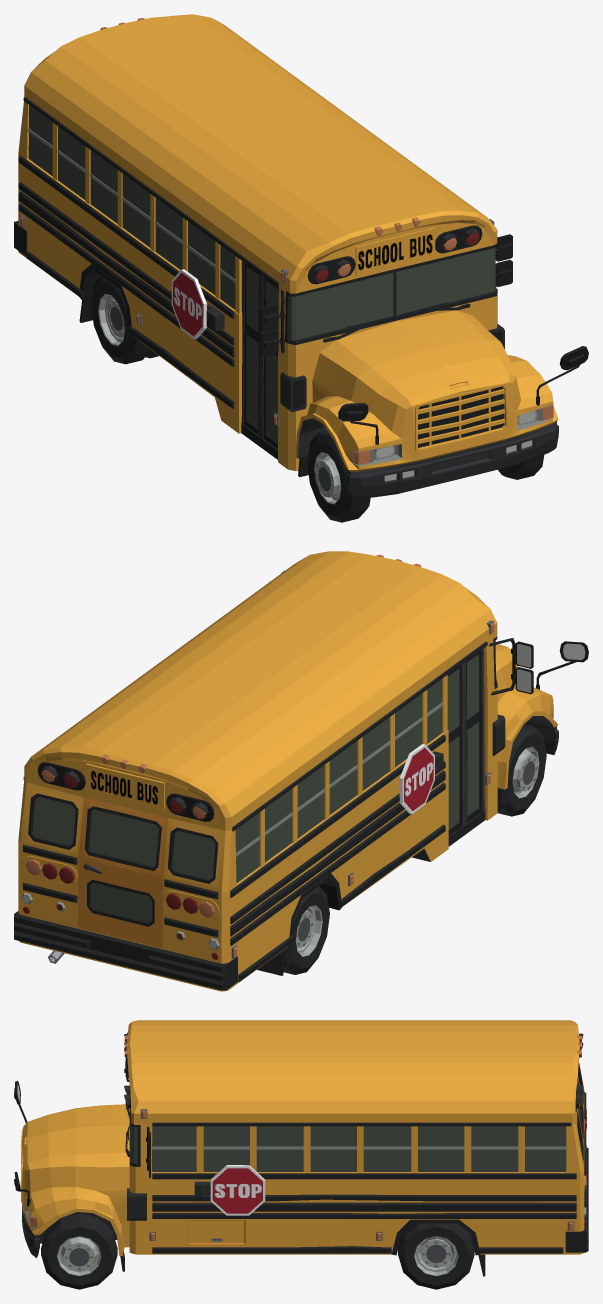
Rendered from SM_Veh_SchoolBus_01.fbx.
3 views of the same model, one above another, from view 1: azimuth 30°, elevation 25°; view 2: azimuth 150°, elevation 25°; view 3: azimuth 270°, elevation 25° (orthographic). The views are drawn at different scales.
Parts seen in each view (by area): view 1: SM_Veh_SchoolBus_01, SM_Veh_SchoolBus_Glass, SM_Veh_SchoolBus_Wheel_fr, SM_Veh_SchoolBus_Wheel_rr, SM_Veh_SchoolBus_Sign_r, SM_Veh_SchoolBus_Door_01_Glass, SM_Veh_SchoolBus_Door_01, SM_Veh_SchoolBus_Door_02_Glass, SM_Veh_SchoolBus_Door_02; view 2: SM_Veh_SchoolBus_01, SM_Veh_SchoolBus_Glass, SM_Veh_SchoolBus_Wheel_fr, SM_Veh_SchoolBus_Wheel_rr, SM_Veh_SchoolBus_Door_02_Glass, SM_Veh_SchoolBus_Sign_r, SM_Veh_SchoolBus_Door_01_Glass, SM_Veh_SchoolBus_Door_02, SM_Veh_SchoolBus_Door_01; view 3: SM_Veh_SchoolBus_01, SM_Veh_SchoolBus_Glass, SM_Veh_SchoolBus_Wheel_fl, SM_Veh_SchoolBus_Wheel_rl, SM_Veh_SchoolBus_Sign_l.
Boxes of the visible parts, x1,y1,x2,y2 form: SM_Veh_SchoolBus_01: (14,14,588,499); SM_Veh_SchoolBus_Glass: (28,105,495,340); SM_Veh_SchoolBus_Wheel_fr: (307,430,370,522); SM_Veh_SchoolBus_Wheel_rr: (91,275,158,364); SM_Veh_SchoolBus_Sign_r: (171,269,210,339); SM_Veh_SchoolBus_Door_01_Glass: (247,267,258,428); SM_Veh_SchoolBus_Door_01: (242,261,261,437); SM_Veh_SchoolBus_Door_02_Glass: (266,281,278,442); SM_Veh_SchoolBus_Door_02: (261,275,278,449); SM_Veh_SchoolBus_01: (14,551,588,991); SM_Veh_SchoolBus_Glass: (32,640,495,922); SM_Veh_SchoolBus_Wheel_fr: (497,724,546,816); SM_Veh_SchoolBus_Wheel_rr: (283,886,329,974); SM_Veh_SchoolBus_Door_02_Glass: (467,654,479,815); SM_Veh_SchoolBus_Sign_r: (399,744,435,813); SM_Veh_SchoolBus_Door_01_Glass: (447,668,459,829); SM_Veh_SchoolBus_Door_02: (464,648,484,824); SM_Veh_SchoolBus_Door_01: (447,663,464,835); SM_Veh_SchoolBus_01: (14,1020,588,1276); SM_Veh_SchoolBus_Glass: (132,1107,580,1171); SM_Veh_SchoolBus_Wheel_fl: (41,1213,117,1289); SM_Veh_SchoolBus_Wheel_rl: (398,1223,474,1289); SM_Veh_SchoolBus_Sign_l: (205,1165,265,1215).
Bounding box in the file's own units: 354 × 323 × 809.
